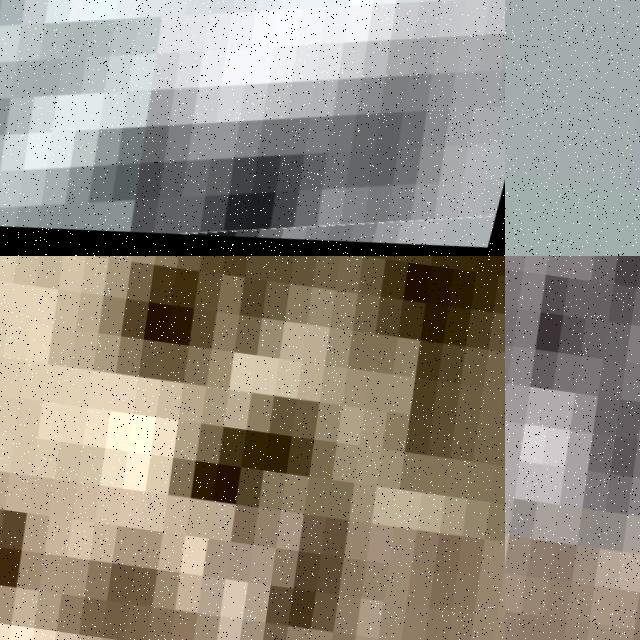drone: (0, 0, 505, 256)
